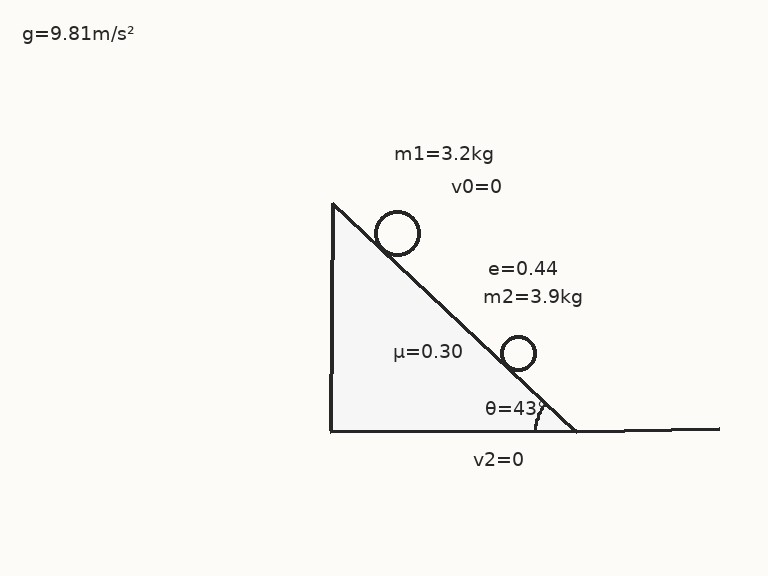ball: (372, 208, 422, 259), (498, 333, 538, 373)
ramp: (329, 201, 577, 433)
